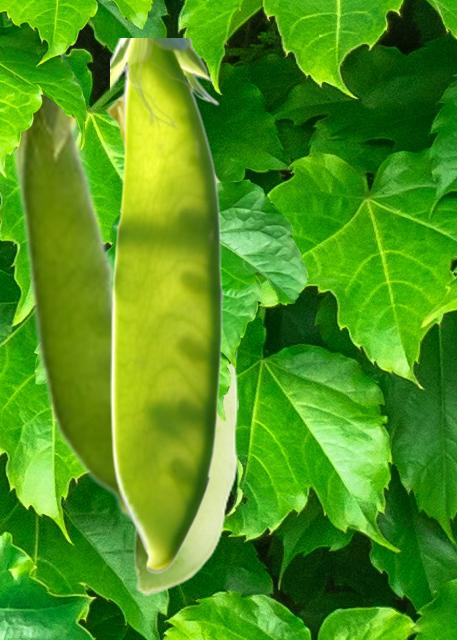pea: (106, 89, 237, 594), (110, 38, 223, 573), (10, 49, 131, 523)
